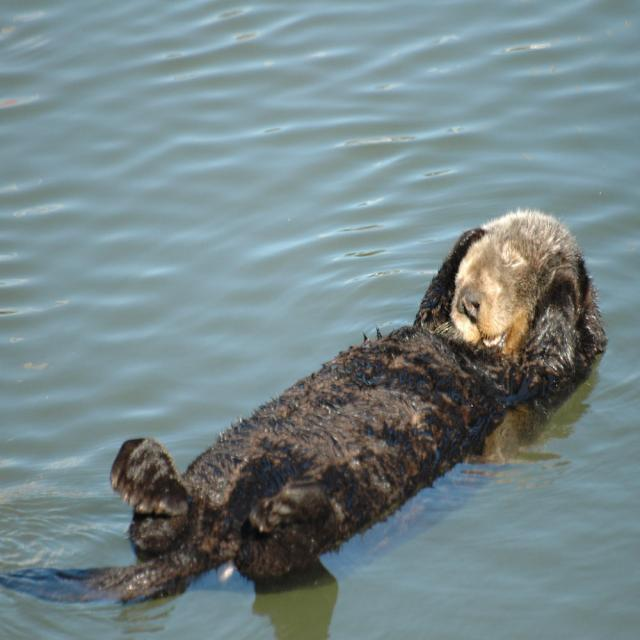otter: (111, 208, 605, 602)
